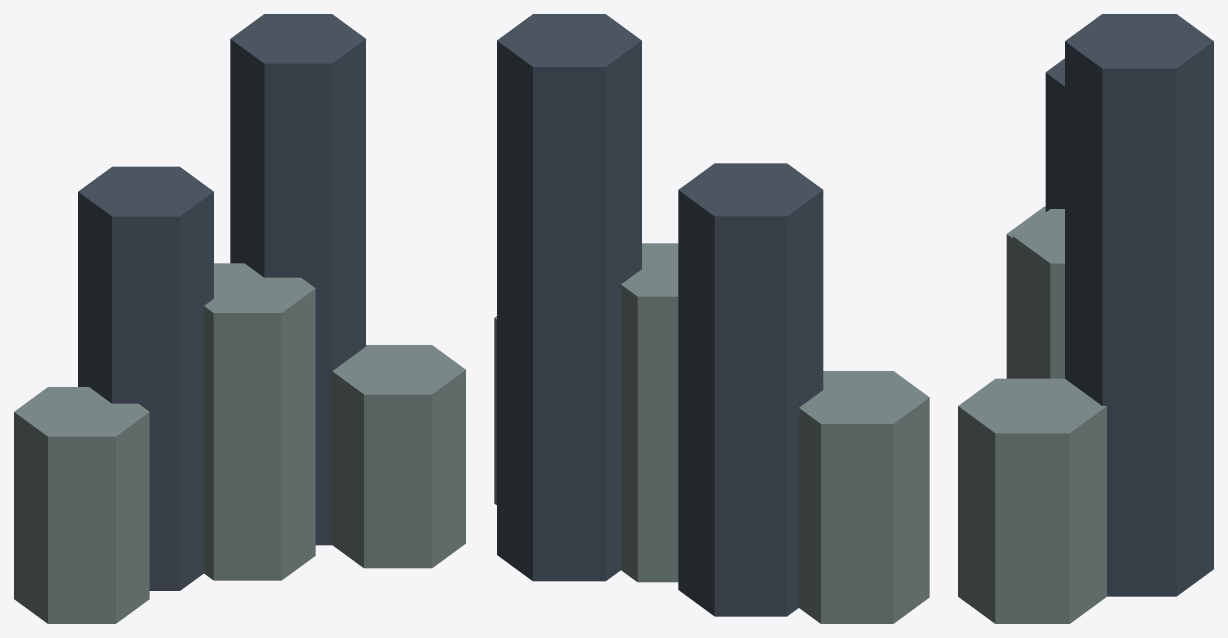
The model's file is basalt_columns.glb.
3 renders of one model, left to right at view 1: azimuth 30°, elevation 25°; view 2: azimuth 150°, elevation 25°; view 3: azimuth 270°, elevation 25°, orthographic. The views are drawn at different scales.
Visible parts, largest first — view 1: column; view 2: column; view 3: column.
Boxes of the visible parts, x1,y1,x2,y2 form: column: [14, 14, 465, 623]; column: [494, 14, 929, 623]; column: [958, 14, 1213, 623].
Bounding box in the file's own units: 1.55 × 1.8 × 0.79.
